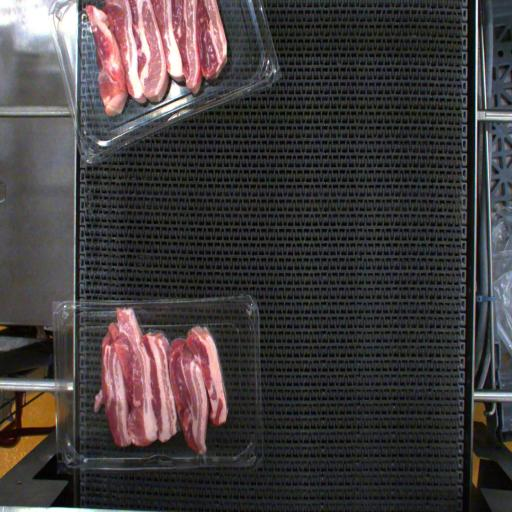unsealed: (100, 314, 222, 352)
